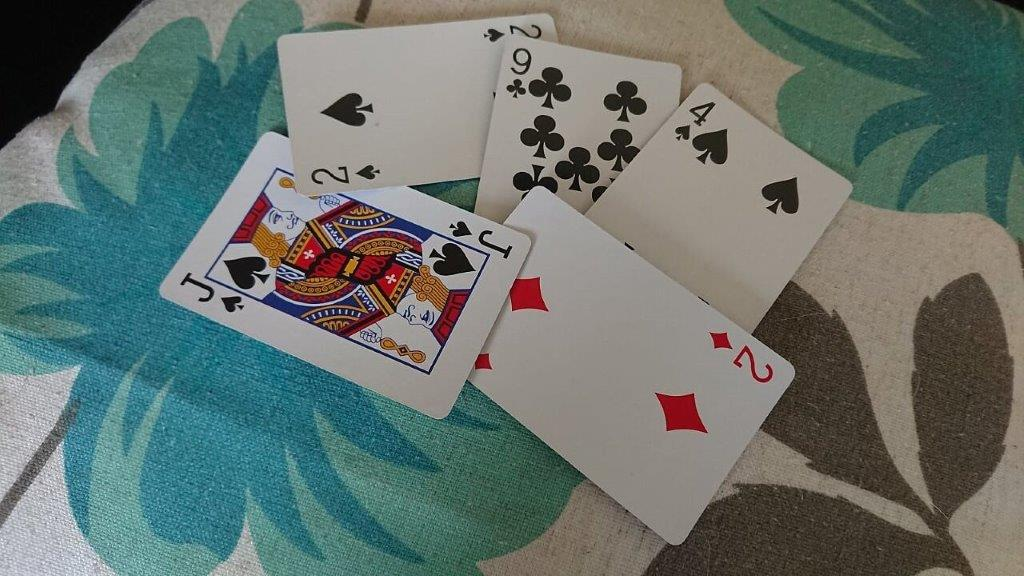4S: (671, 94, 718, 151)
9C: (500, 43, 541, 106)
